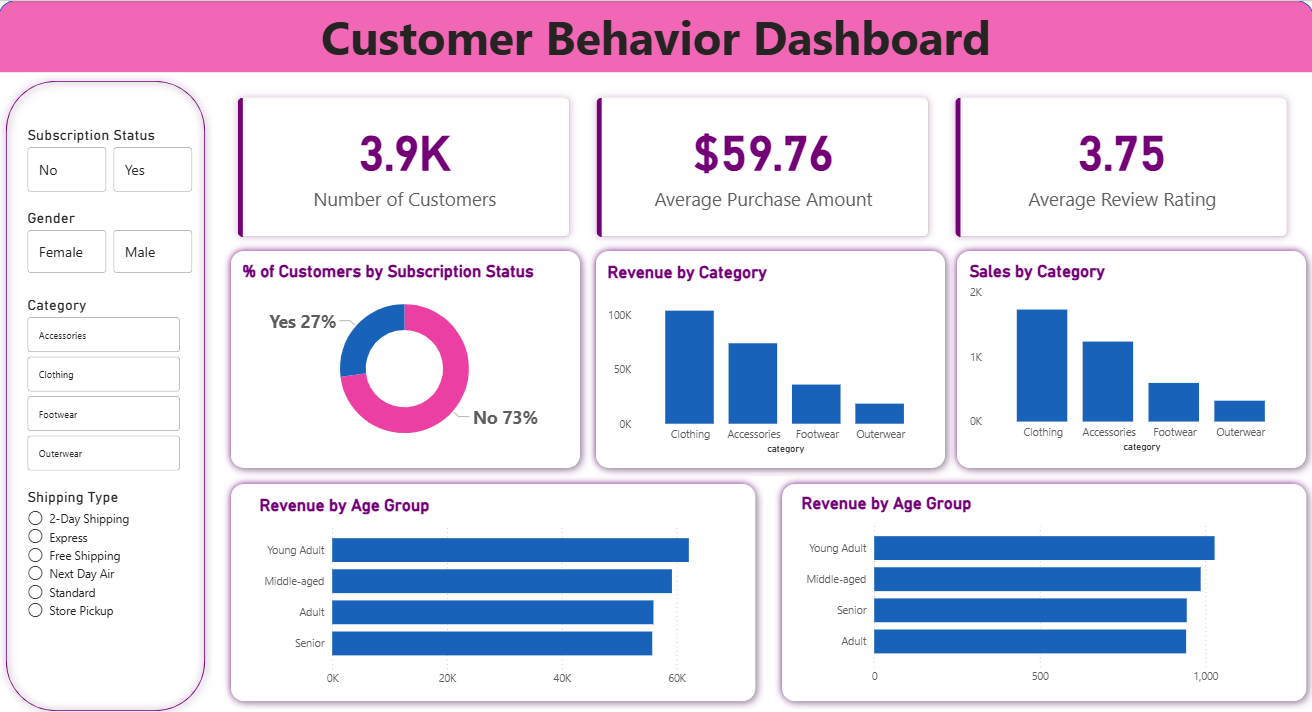

The page's visual inventory and layout, read from the dashboard file:
{"tool":"powerbi","page":{"name":"Page 1","canvas":[1500,820],"ordinal":0},"visuals":[{"type":"cardVisual","fields":{"Data":["public customer.Number of Customers","public customer.Average Purchase Amount","public customer.Average Review Rating"]},"box":[245.1,83.2,1254.9,215.4],"z":0},{"type":"shape","box":[0,0,1500,83.2],"z":1000},{"type":"textbox","box":[0,0,1500,83.2],"z":2000},{"type":"shape","box":[256.5,277,416,265.6],"z":3000},{"type":"shape","box":[672.5,277,416,265.6],"z":4000},{"type":"shape","box":[1084,277,416,265.6],"z":5000},{"type":"donutChart","title":"% of Customers by Subscription Status","fields":{"Category":["public customer.subscription_status"],"Y":["CountNonNull(public customer.customer_id)"]},"box":[273.6,297.4,379.3,223.3],"z":6000},{"type":"clusteredColumnChart","title":"Sales by Category","fields":{"Y":["CountNonNull(public customer.customer_id)"],"Category":["public customer.category"]},"box":[1102.2,297.4,379.3,222],"z":7000},{"type":"shape","box":[0,83.2,245.1,736.3],"z":8000},{"type":"advancedSlicerVisual","fields":{"Values":["public customer.subscription_status"]},"box":[28.5,143.6,198.3,80.9],"z":9000},{"type":"advancedSlicerVisual","fields":{"Values":["public customer.gender"]},"box":[28.5,238.2,198.3,78.6],"z":10000},{"type":"clusteredColumnChart","title":"Revenue by Category","fields":{"Y":["Sum(public customer.purchase_amount)"],"Category":["public customer.category"]},"box":[689.9,298.7,379.3,223.3],"z":11000},{"type":"advancedSlicerVisual","fields":{"Values":["public customer.category"]},"box":[28.5,337.4,184.7,205.2],"z":12000},{"type":"listSlicer","fields":{"Values":["public customer.shipping_type"]},"box":[28.5,556.2,184.7,196],"z":13000},{"type":"shape","box":[256.4,542.2,615.9,265.8],"z":14000},{"type":"clusteredBarChart","title":"Revenue by Age Group","fields":{"Category":["public customer.age_group"],"Y":["Sum(public customer.purchase_amount)"]},"box":[292.7,564.4,560.9,227.2],"z":15000},{"type":"shape","box":[884.1,542.2,615.9,265.8],"z":16000},{"type":"clusteredBarChart","title":"Revenue by Age Group","fields":{"Category":["public customer.age_group"],"Y":["CountNonNull(public customer.customer_id)"]},"box":[911,562.1,560.9,227.2],"z":17000}]}

Visuals, with their boxes in screenshot pixels (x1, y1, x2, y2), scaled from the page's 1500x820 canvas onto the 1312x712 screenshot:
cardVisual - public customer.Number of Customers x public customer.Average Purchase Amount: rect(214, 72, 1311, 259)
shape: rect(0, 0, 1311, 72)
textbox: rect(0, 0, 1311, 72)
shape: rect(224, 241, 588, 471)
shape: rect(588, 241, 952, 471)
shape: rect(948, 241, 1311, 471)
"% of Customers by Subscription Status" donutChart: rect(239, 258, 571, 452)
"Sales by Category" clusteredColumnChart: rect(964, 258, 1296, 451)
shape: rect(0, 72, 214, 711)
advancedSlicerVisual - public customer.subscription_status: rect(25, 125, 198, 195)
advancedSlicerVisual - public customer.gender: rect(25, 207, 198, 275)
"Revenue by Category" clusteredColumnChart: rect(603, 259, 935, 453)
advancedSlicerVisual - public customer.category: rect(25, 293, 186, 471)
listSlicer - public customer.shipping_type: rect(25, 483, 186, 653)
shape: rect(224, 471, 763, 702)
"Revenue by Age Group" clusteredBarChart: rect(256, 490, 747, 687)
shape: rect(773, 471, 1311, 702)
"Revenue by Age Group" clusteredBarChart: rect(797, 488, 1287, 685)
